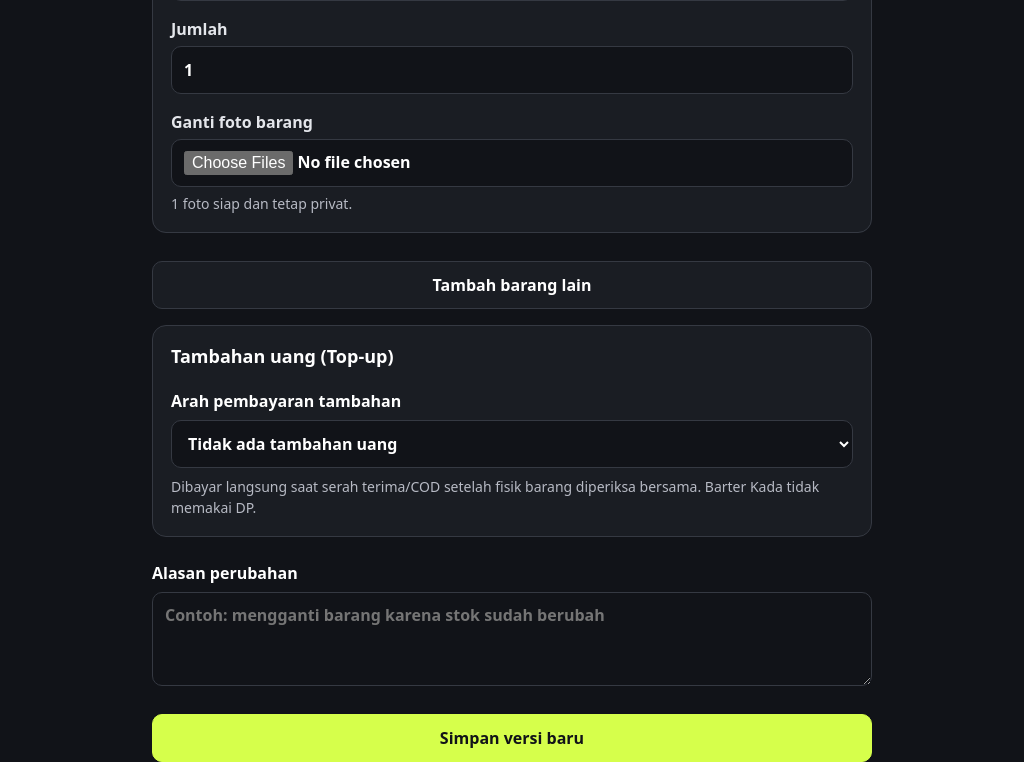
trade revision editor › loads the private package and requires a reason before revising
The width and height of the screenshot is (1024, 762).
(page scrolled)
Click the button "Simpan versi baru" at point(512, 738), box [152,714,872,761]
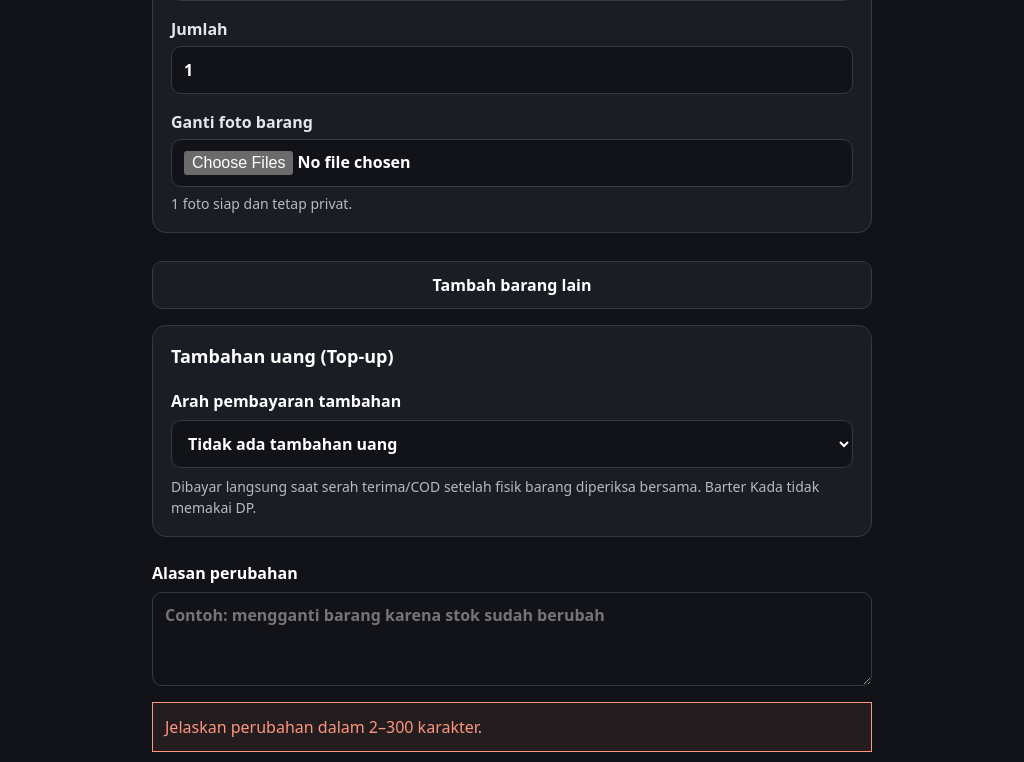
Expected: the message shows "Jelaskan perubahan", [165,716,482,738]
